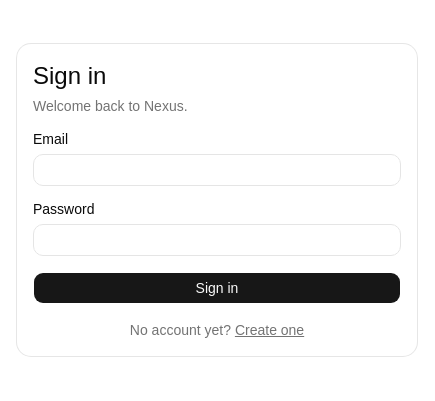
LoginPage › shows a generic message for invalid credentials
In the field labelled "Email": (217, 170) [33,154,401,186], type "ada@example.com"
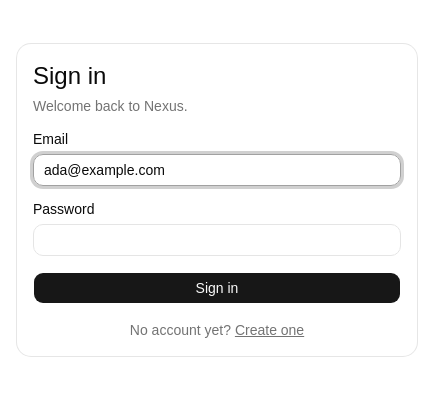
In the password field labelled "Password": (217, 240) [33,224,401,256], type "wrong-password"
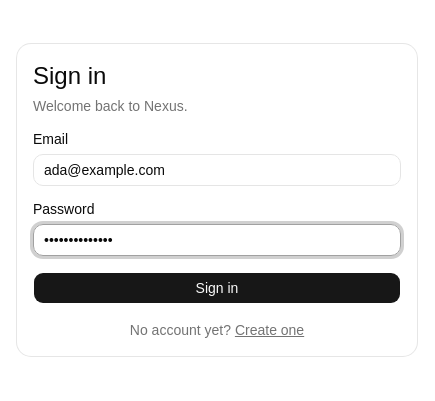
Click the button "Sign in": (217, 288) [33,272,401,304]
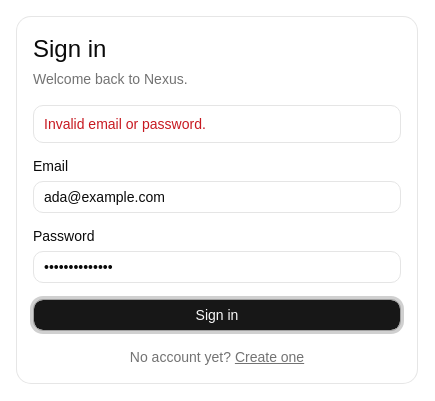
Now the text "Invalid email or password." is shown, box [44,116,206,132]
